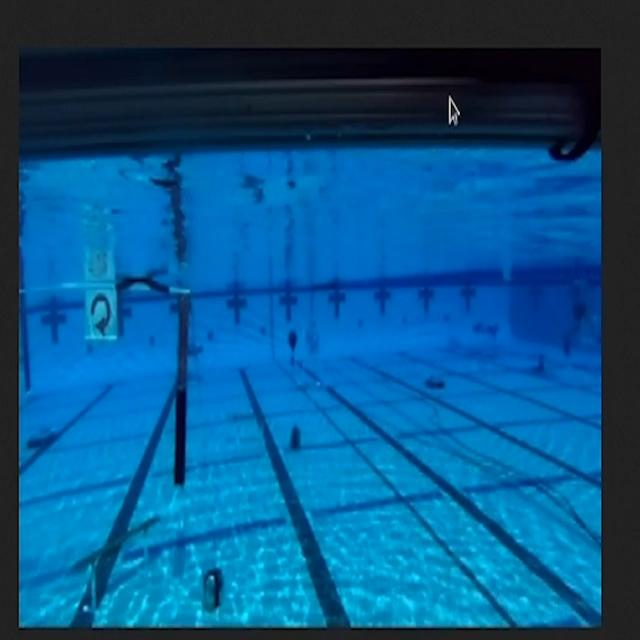Gate: (24, 287, 197, 477)
